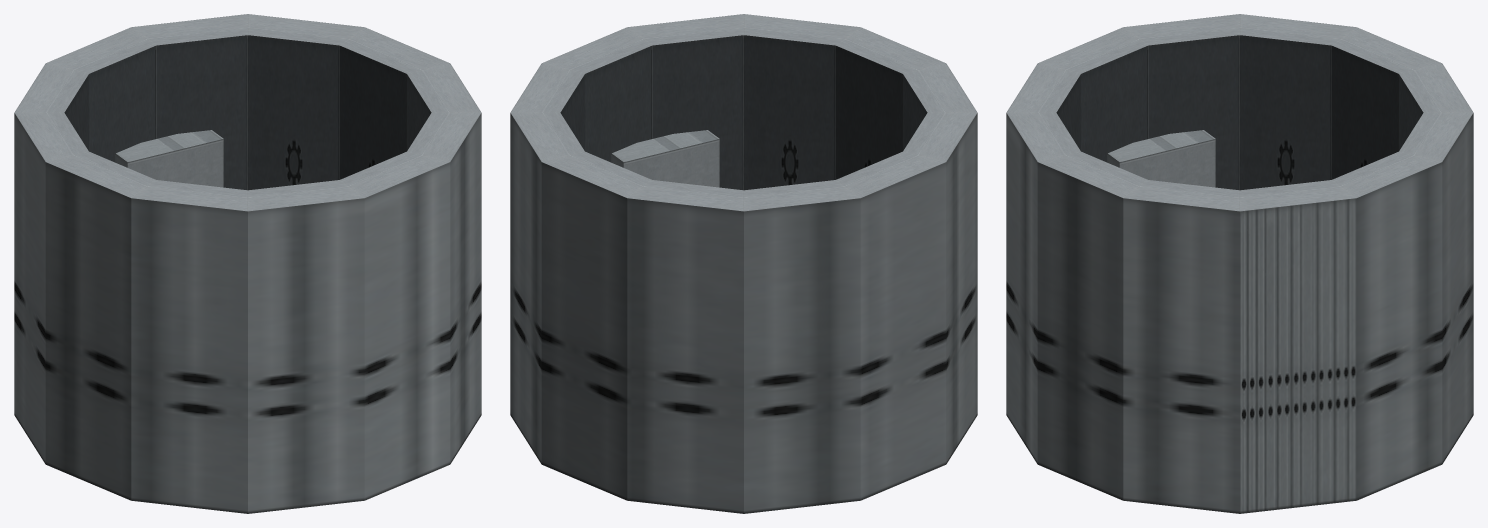
The model's file is washer_drum.glb.
The picture shows the model from 3 angles, left to right: view 1: azimuth 30°, elevation 25°; view 2: azimuth 150°, elevation 25°; view 3: azimuth 270°, elevation 25°; orthographic projection.
Parts seen in each view (by area): view 1: core_washer_drum; view 2: core_washer_drum; view 3: core_washer_drum.
Part boxes in pixels (x1,y1,x2,y2): core_washer_drum: [14, 14, 481, 513]; core_washer_drum: [510, 14, 977, 513]; core_washer_drum: [1006, 14, 1473, 513].
Bounding box in the file's own units: 0.42 × 0.3 × 0.42.
Materials: 1 (1 with a texture image).
